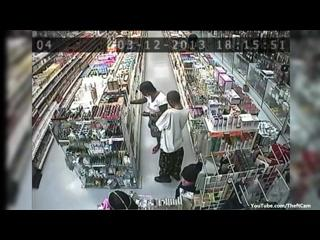Normal: (152, 90, 190, 184), (139, 81, 168, 153), (175, 162, 203, 200)
